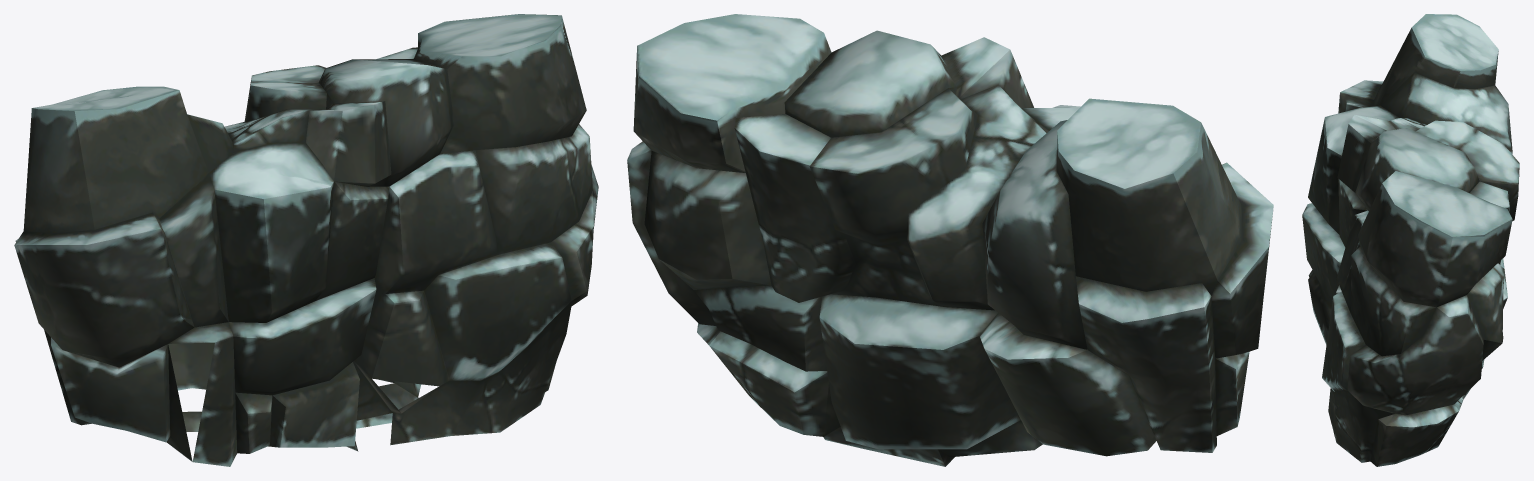
The picture shows the model from 3 angles, left to right: view 1: azimuth 30°, elevation 25°; view 2: azimuth 150°, elevation 25°; view 3: azimuth 270°, elevation 25°; orthographic projection. The views are drawn at different scales.
Visible parts, largest first — view 1: X_wj2; view 2: X_wj2; view 3: X_wj2.
Part boxes in pixels (x1=…): X_wj2: x1=14, y1=14, x2=598, y2=466; X_wj2: x1=627, y1=14, x2=1273, y2=466; X_wj2: x1=1302, y1=14, x2=1519, y2=466.
Bounding box in the file's own units: 665 × 431 × 283.
Materials: 1 (1 with a texture image).
